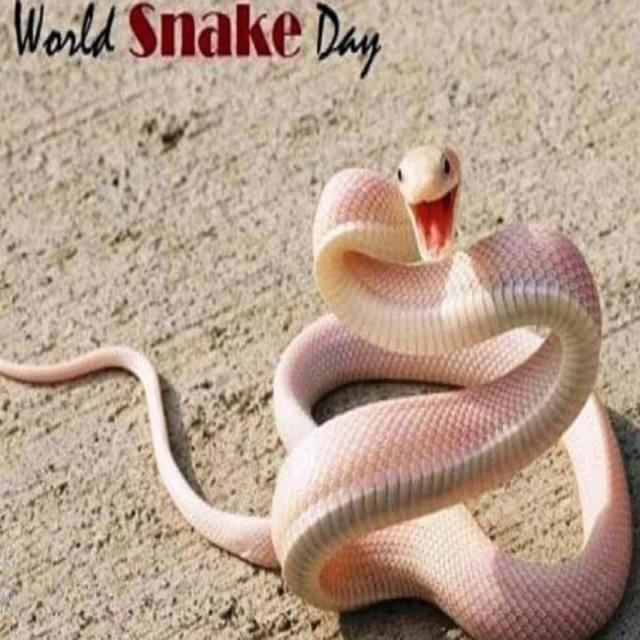Snake: (0, 131, 633, 637)
